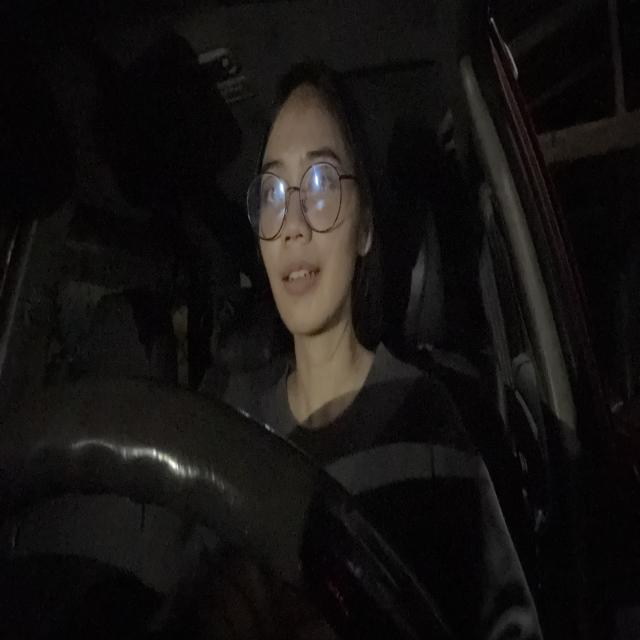open: (306, 144, 346, 206), (262, 150, 289, 214)
